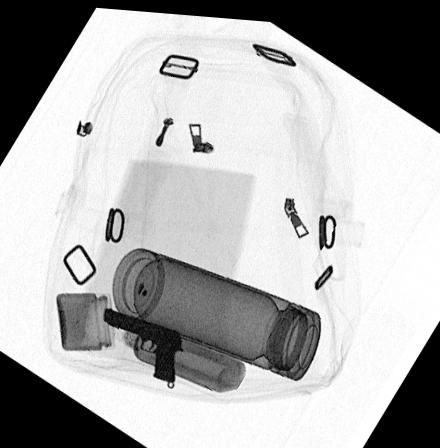Gun: (104, 306, 185, 380)
